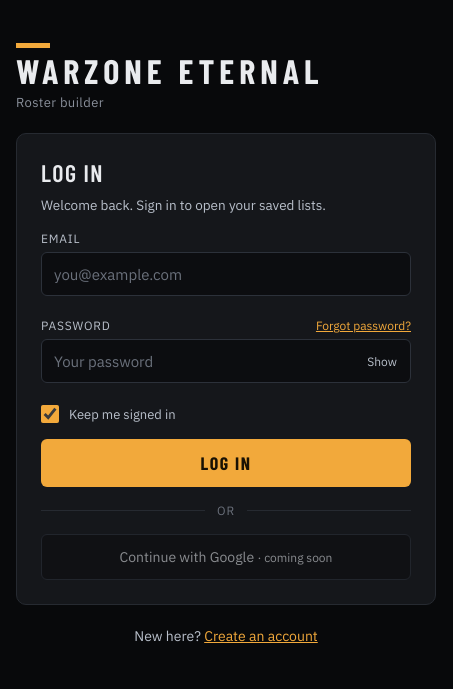
log in › shows a form error for a wrong password
The width and height of the screenshot is (453, 689).
Type "demo@example.com" into the field labelled "Email" at (226, 274), box [41, 252, 411, 296]
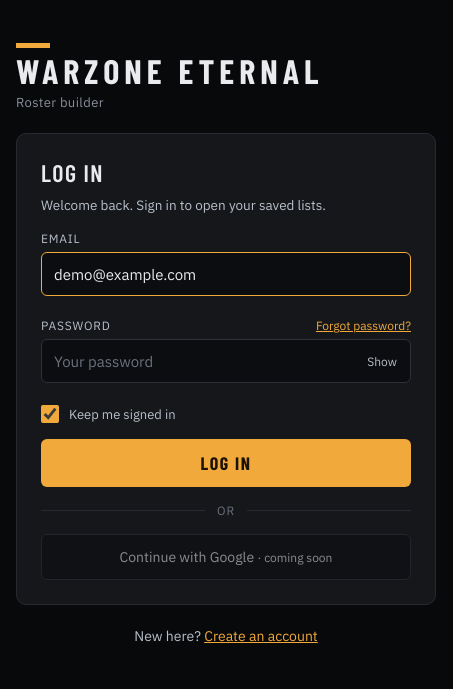
Type "wrong-password" into the password field labelled "Password" at (226, 361), box [41, 339, 411, 383]
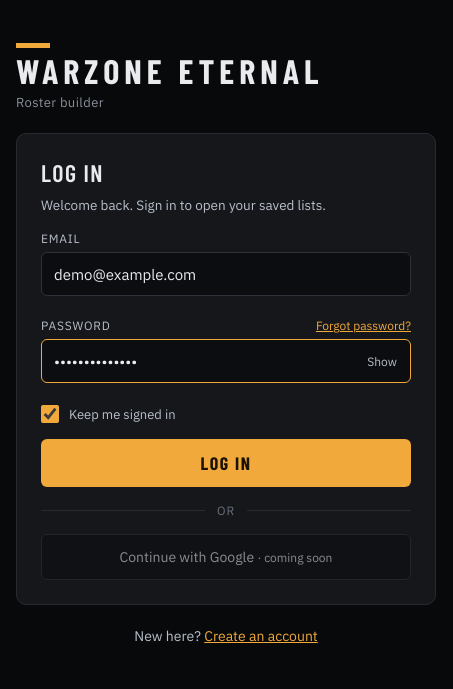
Click the button "Log in" at (226, 463), box [41, 439, 411, 487]
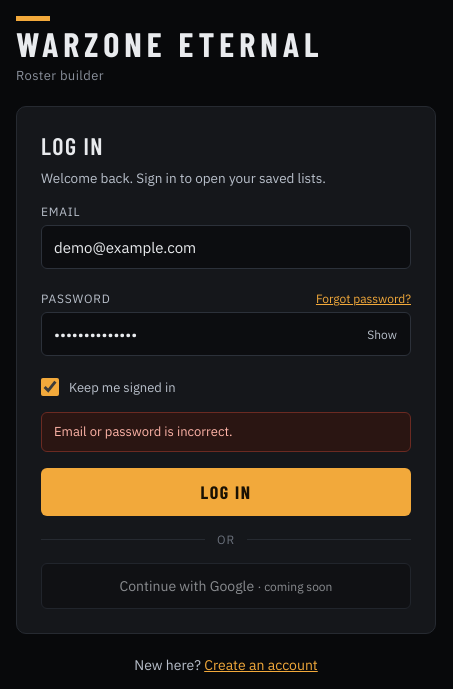
Check: the text "Email or password is incorrect." is shown, box [41, 412, 411, 452]
